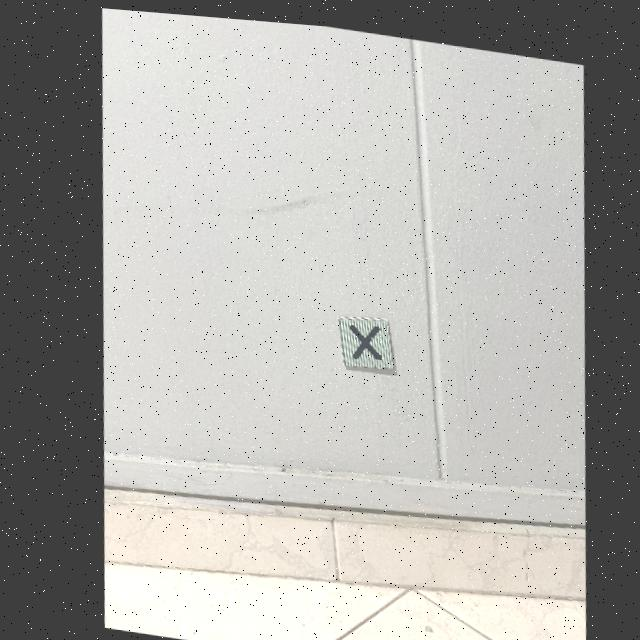X: (344, 319, 376, 353)
